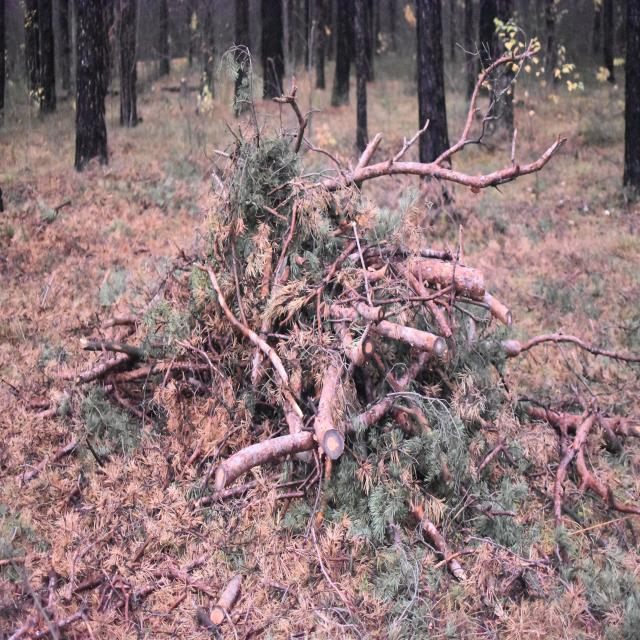restos de madeira: (305, 137, 565, 188), (315, 288, 432, 397), (195, 265, 291, 390), (67, 327, 214, 404), (84, 528, 205, 619), (510, 389, 640, 451), (419, 475, 490, 586), (215, 418, 322, 489), (354, 350, 432, 436), (74, 279, 190, 335), (552, 403, 602, 531), (500, 328, 640, 369), (390, 254, 492, 302), (310, 534, 364, 624), (322, 226, 404, 284), (385, 544, 424, 633), (312, 359, 347, 456), (269, 196, 301, 293), (220, 472, 306, 508), (503, 133, 567, 179), (432, 158, 512, 190), (20, 385, 78, 422), (350, 288, 437, 312), (300, 140, 358, 176), (483, 38, 538, 74), (49, 594, 94, 637), (282, 397, 310, 461), (211, 571, 243, 626), (322, 298, 371, 332), (183, 486, 247, 512), (390, 121, 428, 164), (173, 439, 204, 487), (343, 158, 398, 185), (476, 439, 516, 476), (418, 244, 491, 264), (431, 130, 471, 166), (450, 301, 496, 330), (504, 552, 558, 575), (58, 468, 86, 512), (5, 614, 50, 640), (512, 393, 567, 413), (18, 455, 51, 483), (291, 110, 311, 154), (71, 572, 108, 595), (44, 564, 60, 614), (38, 269, 58, 309), (262, 577, 298, 598), (606, 495, 640, 517), (479, 506, 518, 522), (53, 438, 79, 459), (261, 257, 272, 299)
